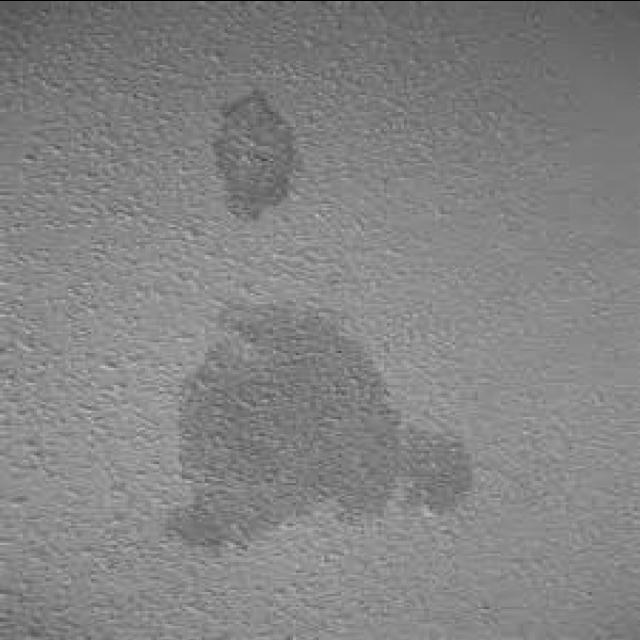stain marks: (168, 302, 486, 549), (217, 86, 303, 224)
